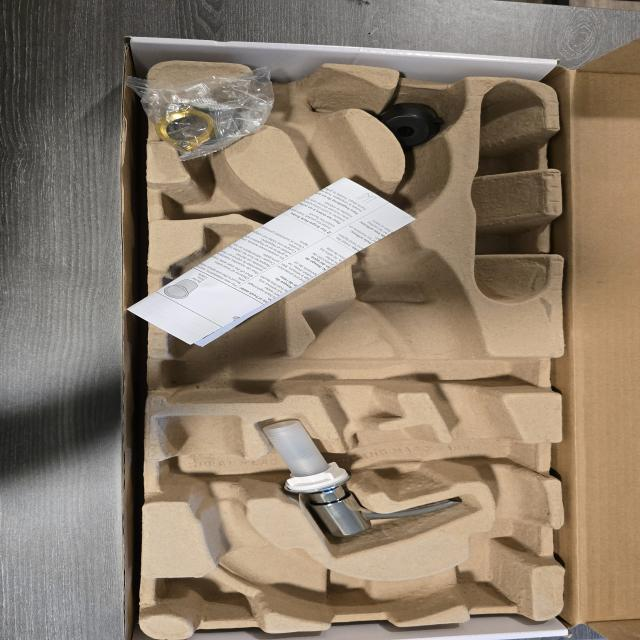1m: (160, 69, 542, 624)
2: (260, 419, 461, 542)
3m: (167, 224, 285, 404)
4m: (474, 80, 547, 303)
5: (379, 103, 439, 147)
6: (125, 66, 273, 162)
7m: (163, 159, 286, 223)
8: (127, 175, 420, 349)
